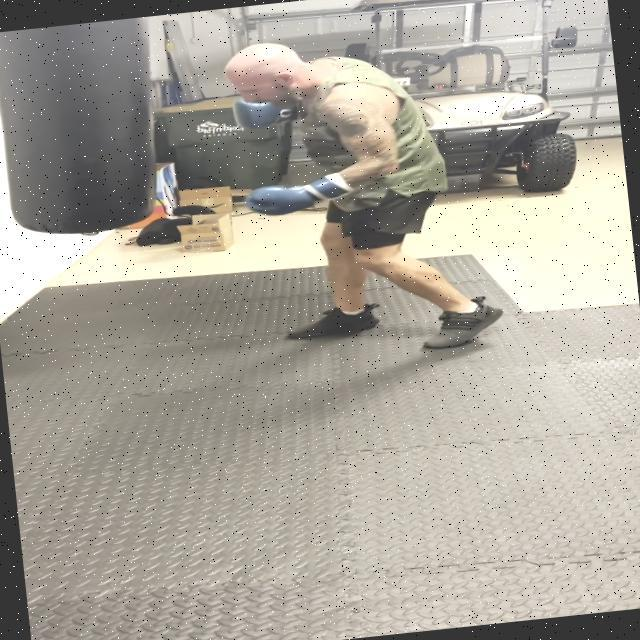bag: (0, 16, 174, 239)
uppercut: (212, 28, 434, 230)
